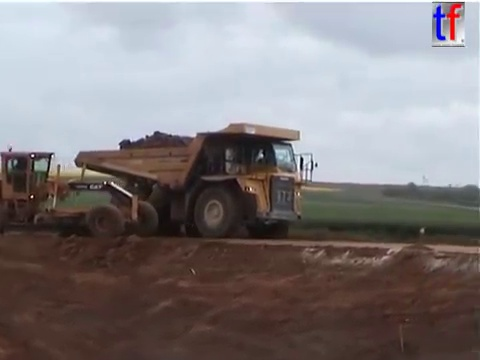motor grader: (1, 144, 161, 241)
truck: (71, 120, 320, 240)
